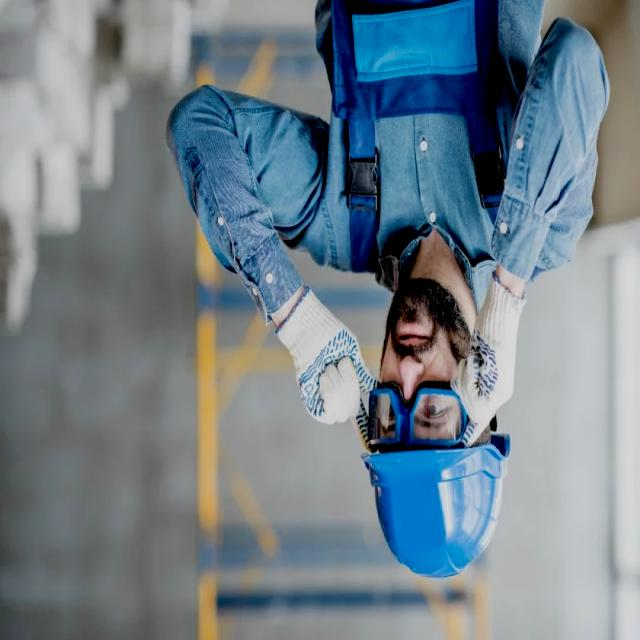Gloves: (273, 282, 377, 458), (450, 287, 530, 449)
Hard Hat: (359, 436, 512, 586)
Safety Glasses: (368, 381, 472, 449)
